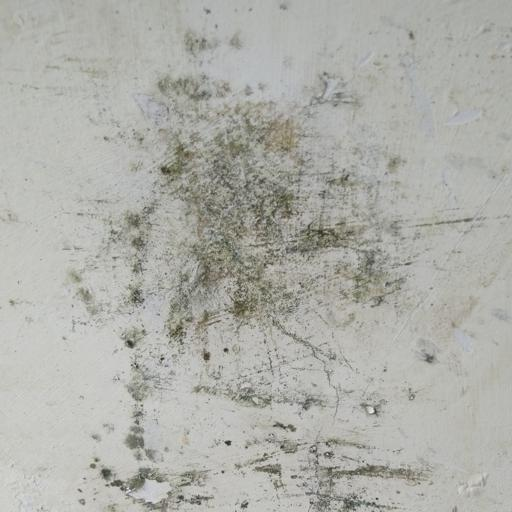algae: (76, 33, 441, 437)
